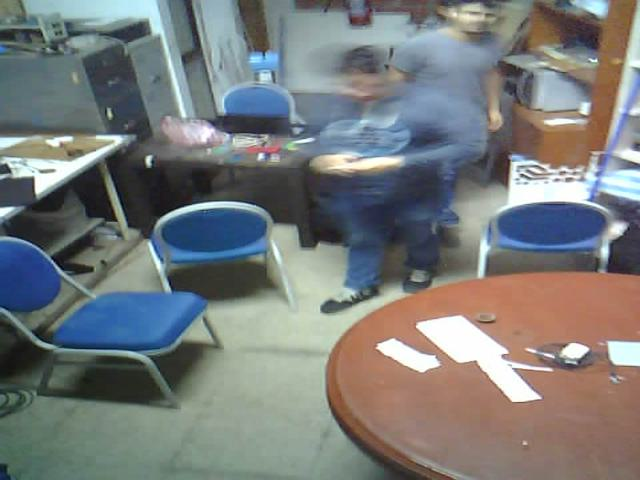person: (304, 32, 453, 329), (409, 3, 517, 214)
